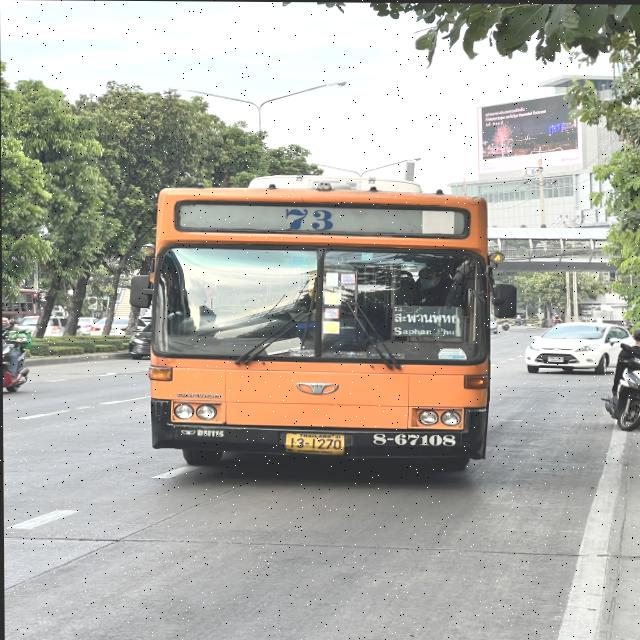BMTA-bus: (130, 180, 492, 472)
Bus Line Number: (280, 204, 342, 233)
Bus Side Number: (362, 428, 459, 448)
Destination Sign: (389, 305, 460, 337)
